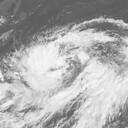cyclone: (17, 30, 95, 100)
